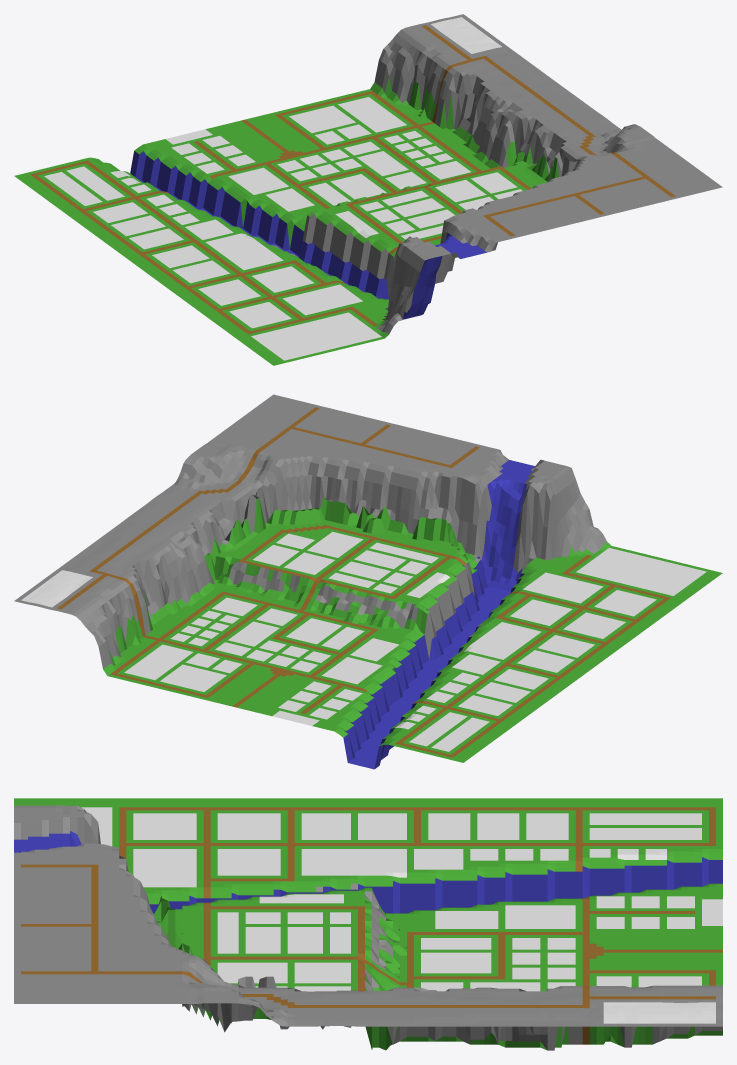
The model's file is exportmapa.fbx.
The picture shows the model from 3 angles, top to bottom: view 1: azimuth 30°, elevation 25°; view 2: azimuth 150°, elevation 25°; view 3: azimuth 270°, elevation 25°; orthographic projection. The views are drawn at different scales.
Parts seen in each view (by area): view 1: Plane; view 2: Plane; view 3: Plane.
Boxes of the visible parts, bbox=[...] form: Plane: bbox=[14, 14, 722, 365]; Plane: bbox=[14, 394, 722, 769]; Plane: bbox=[14, 798, 722, 1050].
Size of the model in its own units: 10000 by 2082 by 10000.
